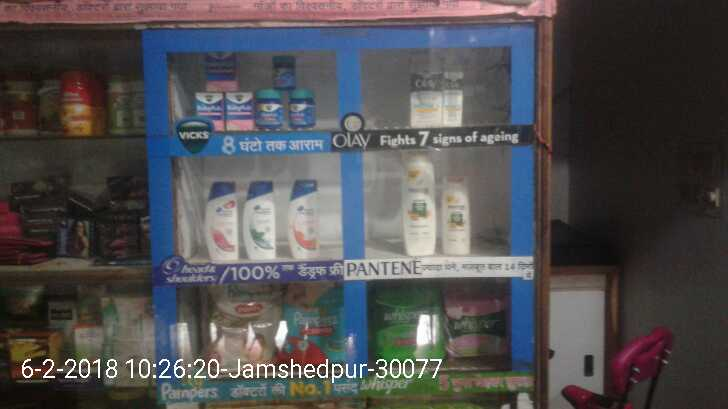beauty: (395, 154, 439, 259), (194, 176, 243, 264), (241, 180, 281, 266), (441, 172, 478, 259), (280, 177, 316, 259), (406, 67, 445, 126), (439, 59, 469, 132)
pharmacy: (195, 283, 282, 371), (280, 271, 349, 379), (368, 273, 439, 373), (445, 286, 514, 367), (196, 53, 244, 87), (224, 87, 258, 130), (254, 90, 291, 128), (290, 80, 317, 130), (187, 94, 223, 125), (268, 55, 297, 87)
